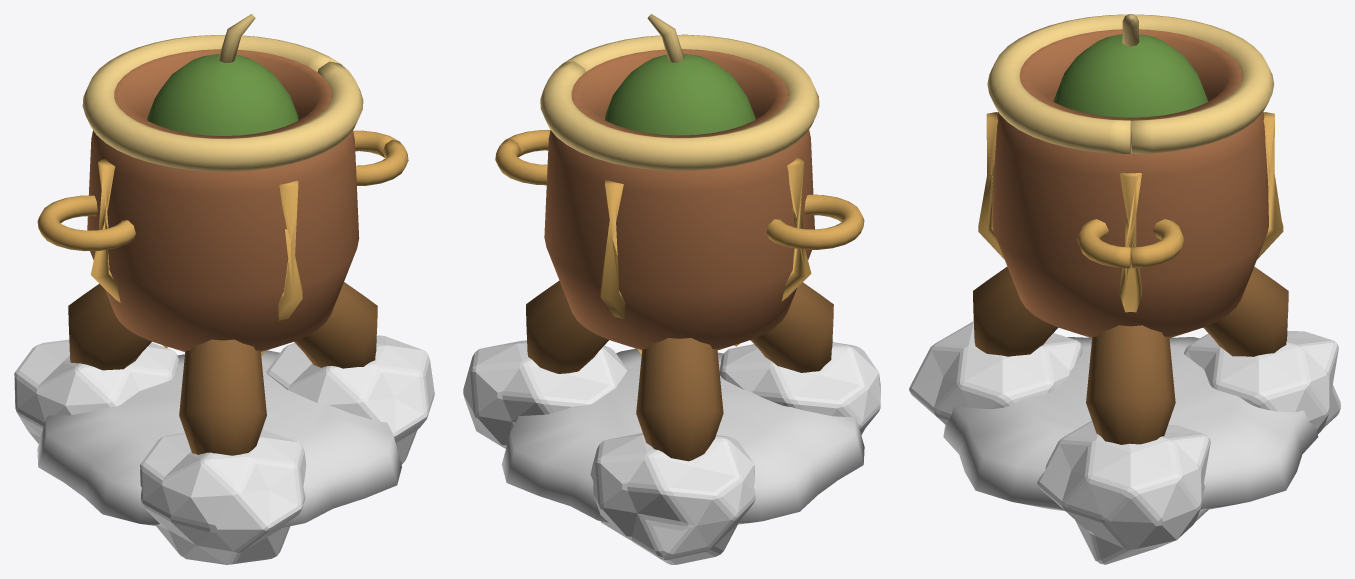
The model's file is mortar-3.fbx.
3 views of the same model, side by side, from view 1: azimuth 30°, elevation 25°; view 2: azimuth 150°, elevation 25°; view 3: azimuth 270°, elevation 25° (orthographic). The views are drawn at different scales.
Parts seen in each view (by area): view 1: Turret_Organic, Base_Stone, Turret_Metal, ClayBerm, Core_Organic; view 2: Turret_Organic, Base_Stone, Turret_Metal, ClayBerm, Core_Organic; view 3: Turret_Organic, Base_Stone, Turret_Metal, ClayBerm, Core_Organic.
Part boxes in pixels (x1,y1,x2,y2): Turret_Organic: [68, 49, 377, 455]; Base_Stone: [14, 335, 434, 564]; Turret_Metal: [37, 35, 408, 355]; ClayBerm: [37, 350, 401, 528]; Core_Organic: [147, 14, 298, 135]; Turret_Organic: [526, 49, 833, 461]; Base_Stone: [463, 340, 880, 564]; Turret_Metal: [495, 34, 864, 354]; ClayBerm: [501, 348, 864, 524]; Core_Organic: [605, 14, 755, 135]; Turret_Organic: [973, 29, 1288, 444]; Base_Stone: [909, 321, 1340, 564]; Turret_Metal: [978, 14, 1283, 312]; ClayBerm: [943, 337, 1318, 511]; Core_Organic: [1053, 14, 1208, 117].
Size of the model in its own units: 101 by 120 by 96.34.
